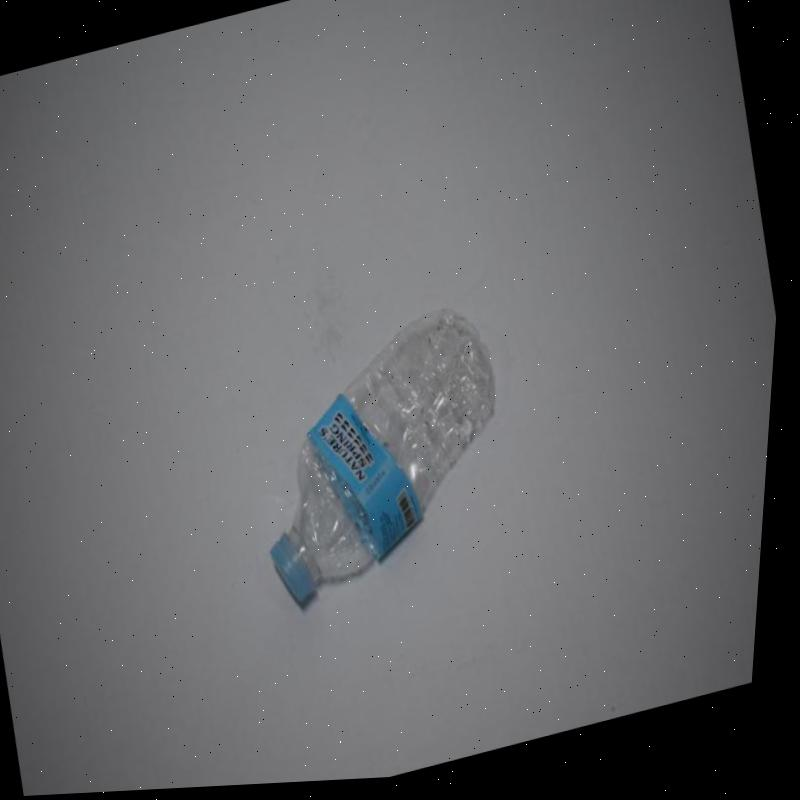botella: (233, 302, 538, 622)
